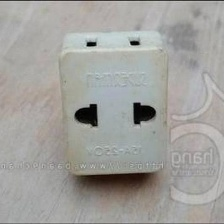three_eye_plug: (59, 24, 173, 178)
